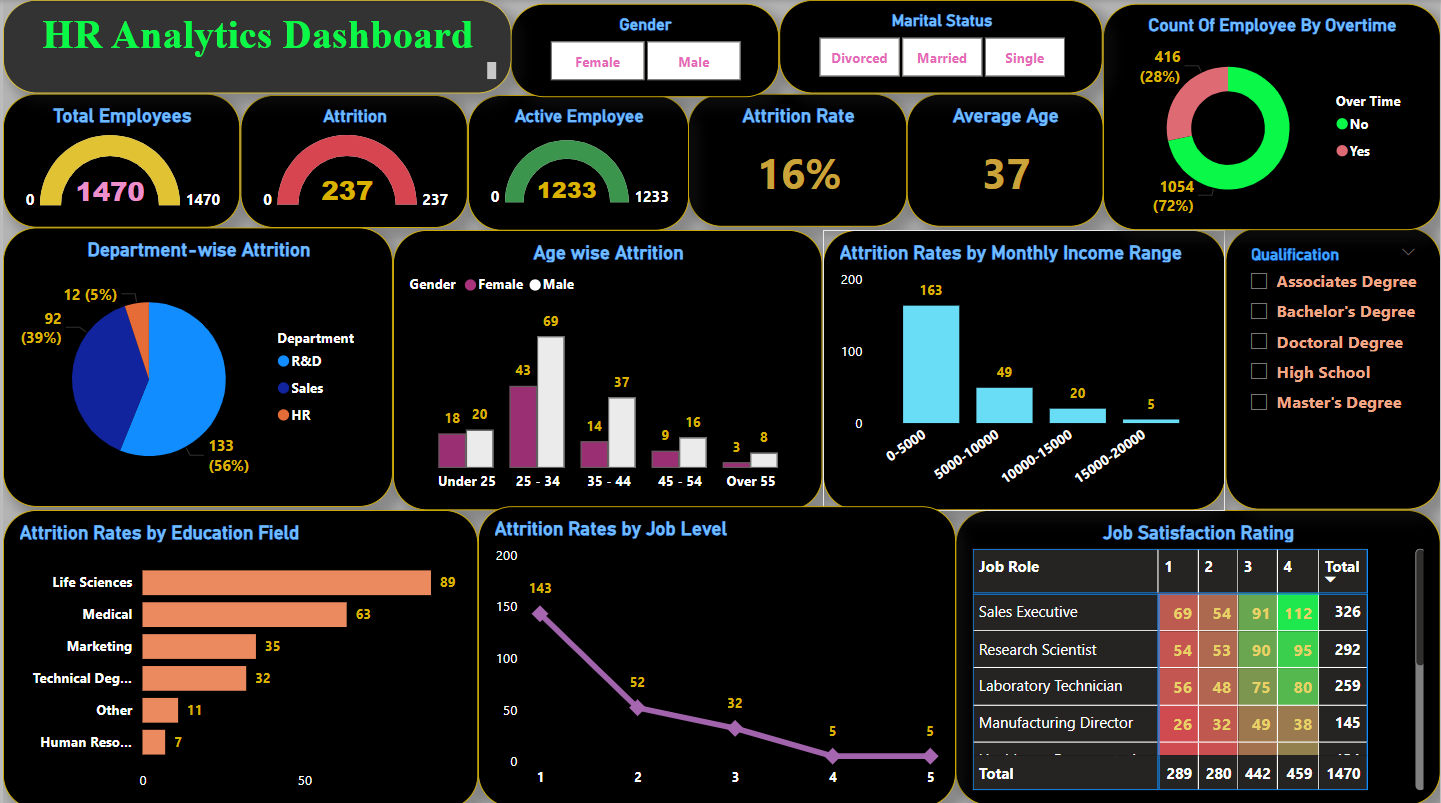

This screenshot's page, from the dashboard's own definition file:
{"tool":"powerbi","page":{"name":"Dashboard","canvas":[1280,720],"ordinal":4},"visuals":[{"type":"gauge","title":"Total Employees","fields":{"Y":["Sum(Hr_data1.Employee Count)"]},"box":[0,83.2,211.1,119.4],"z":0},{"type":"gauge","title":"Attrition","fields":{"Y":["Sum(Hr_data1.Attrition Rates)"]},"box":[211.1,84.5,202.7,118.2],"z":1000},{"type":"card","title":"Attrition Rate","fields":{"Values":["Hr_data1.Attrition %"]},"box":[610.5,83.2,195.4,118.2],"z":2000},{"type":"gauge","title":"Active Employee","fields":{"Y":["Hr_data1.active employees"]},"box":[413.8,84.5,196.6,120.6],"z":3000},{"type":"card","title":"Average Age","fields":{"Values":["Avg(Hr_data1.Age)"]},"box":[804.7,83.2,174.9,118.2],"z":4000},{"type":"pieChart","title":"Department-wise Attrition","fields":{"Category":["Hr_data1.Department"],"Y":["Sum(Hr_data1.Attrition Rates)"]},"box":[0,202.7,347.5,248.5],"z":5000},{"type":"clusteredColumnChart","title":"Age wise Attrition","fields":{"Category":["Hr_data1.CF_age band"],"Series":["Hr_data1.Gender"],"Y":["Sum(Hr_data1.Attrition Rates)"]},"box":[347.5,205.1,382.4,249.7],"z":6000},{"type":"pivotTable","title":"Job Satisfaction Rating","fields":{"Rows":["Hr_data1.Job Role"],"Values":["Sum(Hr_data1.Employee Count)"],"Columns":["Hr_data1.Job Satisfaction"]},"box":[848.6,453.7,431.7,262.9],"z":7000},{"type":"clusteredBarChart","title":"Attrition Rates by Education Field","fields":{"Category":["Hr_data1.Education Field"],"Y":["Sum(Hr_data1.Attrition Rates)"]},"box":[0,453.6,423.5,266.6],"z":8000},{"type":"clusteredColumnChart","title":"Attrition Rates by Monthly Income Range","fields":{"Category":["Hr_data1.Monthly Income Range"],"Y":["Sum(Hr_data1.Attrition Rates)"]},"box":[729.9,205.1,358.3,249.7],"z":9000},{"type":"lineChart","title":" Attrition Rates by Job Level","fields":{"Category":["Hr_data1.Job Level"],"Y":["Sum(Hr_data1.Attrition Rates)"]},"box":[423.1,451.2,425.5,267.8],"z":10000},{"type":"slicer","title":"Gender","fields":{"Values":["Hr_data1.Gender"]},"box":[452.4,3.6,238.9,83.2],"z":11000},{"type":"slicer","fields":{"Values":["Hr_data1.Education"]},"box":[1088.2,202.7,191.8,250.9],"z":12000},{"type":"textbox","title":"HR Analytics Dashboard","box":[0,0,452.4,83.2],"z":13000},{"type":"donutChart","title":"Count Of Employee By Overtime","fields":{"Category":["Hr_data1.Over Time"],"Y":["Sum(Hr_data1.Employee Count)"]},"box":[979.6,3.6,300.4,201.5],"z":14000},{"type":"slicer","title":"Marital Status","fields":{"Values":["Hr_data1.Marital Status"]},"box":[691.3,0,288.3,83.2],"z":15000}]}

Visuals, with their boxes in screenshot pixels (x1, y1, x2, y2), scaled from the page's 1280x720 canvas onto the 1441x803 screenshot:
"Total Employees" gauge: crop(0, 93, 238, 226)
"Attrition" gauge: crop(238, 94, 466, 226)
"Attrition Rate" card: crop(687, 93, 907, 225)
"Active Employee" gauge: crop(466, 94, 687, 229)
"Average Age" card: crop(906, 93, 1103, 225)
"Department-wise Attrition" pieChart: crop(0, 226, 391, 503)
"Age wise Attrition" clusteredColumnChart: crop(391, 229, 822, 507)
"Job Satisfaction Rating" pivotTable: crop(955, 506, 1440, 799)
"Attrition Rates by Education Field" clusteredBarChart: crop(0, 506, 477, 802)
"Attrition Rates by Monthly Income Range" clusteredColumnChart: crop(822, 229, 1225, 507)
" Attrition Rates by Job Level" lineChart: crop(476, 503, 955, 802)
"Gender" slicer: crop(509, 4, 778, 97)
slicer - Hr_data1.Education: crop(1225, 226, 1440, 506)
"HR Analytics Dashboard" textbox: crop(0, 0, 509, 93)
"Count Of Employee By Overtime" donutChart: crop(1103, 4, 1440, 229)
"Marital Status" slicer: crop(778, 0, 1103, 93)
